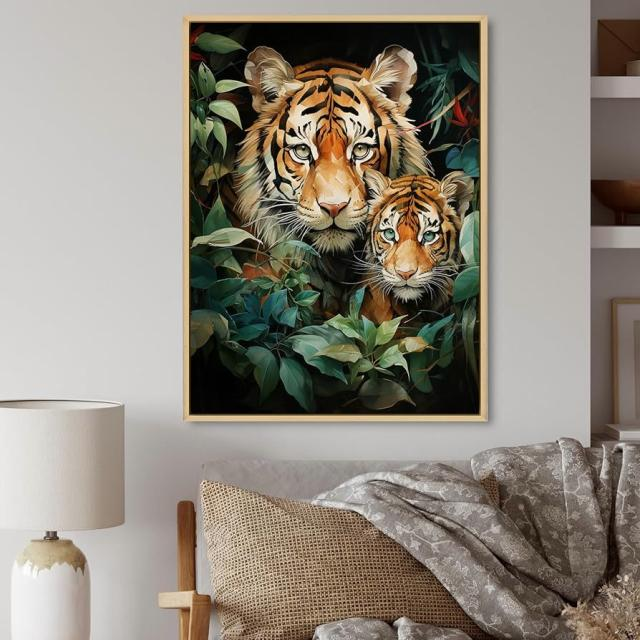painting: (183, 14, 488, 421)
